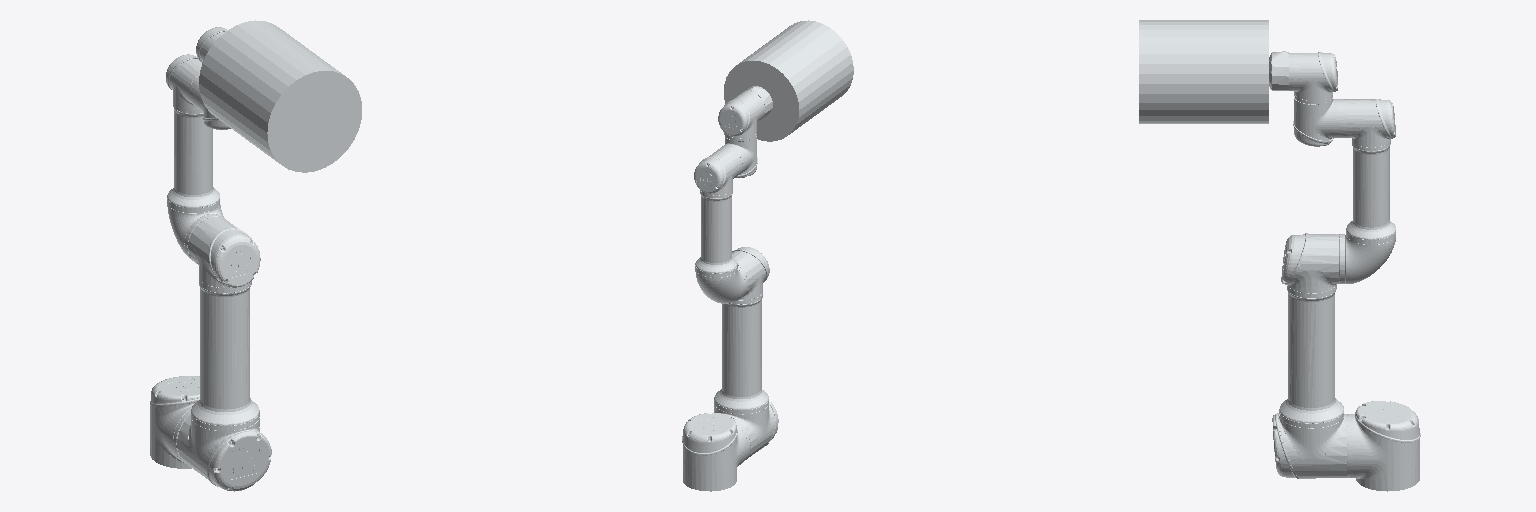
URDF robot description (eSeries_UR16e_15012020_URDF_ONLY):
<?xml version="1.0" encoding="utf-8"?>
<!-- This URDF was automatically created by SolidWorks to URDF Exporter! Originally created by [author] ([email redacted]) 
     Commit Version: 1.5.1-0-g916b5db  Build Version: 1.5.7152.31018
     For more information, please see http://wiki.ros.org/sw_urdf_exporter -->
<robot
  name="eSeries_UR16e_15012020_URDF_ONLY">
  <link
    name="base_link">
    <inertial>
      <origin
        xyz="0 0 0"
        rpy="0 0 0" />
      <mass
        value="3.3528" />
      <inertia
        ixx="0.0088179"
        ixy="-2.2263E-06"
        ixz="7.1489E-06"
        iyy="0.0098684"
        iyz="0.00021615"
        izz="0.01352" />
    </inertial>
    <visual>
      <origin
        xyz="0 0 0"
        rpy="0 0 0" />
      <geometry>
        <mesh
          filename="meshes/base_link.stl" />
      </geometry>
      <material
        name="">
        <color
          rgba="0.89804 0.91765 0.92941 1" />
      </material>
    </visual>
    <collision>
      <origin
        xyz="0 0 0"
        rpy="0 0 0" />
      <geometry>
        <mesh
          filename="meshes/base_link.stl" />
      </geometry>
    </collision>
  </link>
  <link
    name="Shoulder1">
    <inertial>
      <origin
        xyz="0 0 0"
        rpy="0 0 0" />
      <mass
        value="7.369" />
      <inertia
        ixx="0.037903"
        ixy="-3.567E-07"
        ixz="6.5164E-07"
        iyy="0.032113"
        iyz="-0.00061449"
        izz="0.033598" />
    </inertial>
    <visual>
      <origin
        xyz="0 0 0"
        rpy="0 0 0" />
      <geometry>
        <mesh
          filename="meshes/shoulder1.stl" />
      </geometry>
      <material
        name="">
        <color
          rgba="0.89804 0.91765 0.92941 1" />
      </material>
    </visual>
    <collision>
      <origin
        xyz="0 0 0"
        rpy="0 0 0" />
      <geometry>
        <mesh
          filename="meshes/shoulder1.stl" />
      </geometry>
    </collision>
  </link>
  <joint
    name="J1"
    type="revolute">
    <origin
      xyz="0 0 0"
      rpy="0 0 0" />
    <parent
      link="base_link" />
    <child
      link="Shoulder1" />
    <axis
      xyz="0 1 0" />
    <limit
      lower="-6.28"
      upper="6.28"
      effort="0"
      velocity="2.094" />
    <dynamics
      damping="1.5"
      friction="1" />
    <safety_controller
      soft_upper="6"
      soft_lower="-6"
      k_velocity="2.094" />
  </joint>
  <link
    name="Shoulder2">
    <inertial>
      <origin
        xyz="0 0 0"
        rpy="0 0 0" />
      <mass
        value="10.45" />
      <inertia
        ixx="0.77144"
        ixy="-6.1908E-06"
        ixz="2.1756E-07"
        iyy="0.055717"
        iyz="0.0015624"
        izz="0.76424" />
    </inertial>
    <visual>
      <origin
        xyz="0 0 0"
        rpy="0 0 0" />
      <geometry>
        <mesh
          filename="meshes/shoulder2.stl" />
      </geometry>
      <material
        name="">
        <color
          rgba="0.89804 0.91765 0.92941 1" />
      </material>
    </visual>
    <collision>
      <origin
        xyz="0 0 0"
        rpy="0 0 0" />
      <geometry>
        <mesh
          filename="meshes/shoulder2.stl" />
      </geometry>
    </collision>
  </link>
  <joint
    name="J2"
    type="revolute">
    <origin
      xyz="0 0 0"
      rpy="0 0 0" />
    <parent
      link="Shoulder1" />
    <child
      link="Shoulder2" />
    <axis
      xyz="0 0 1" />
    <limit
      lower="-6.28"
      upper="6.28"
      effort="0"
      velocity="2.094" />
    <dynamics
      damping="1.5"
      friction="1" />
    <safety_controller
      soft_upper="6"
      soft_lower="-6"
      k_velocity="2.094" />
  </joint>
  <link
    name="Elbow">
    <inertial>
      <origin
        xyz="0 0 0"
        rpy="0 0 0" />
      <mass
        value="4.321" />
      <inertia
        ixx="0.18067"
        ixy="-1.5315E-05"
        ixz="-4.3945E-06"
        iyy="0.013863"
        iyz="0.0099125"
        izz="0.1784" />
    </inertial>
    <visual>
      <origin
        xyz="0 0 0"
        rpy="0 0 0" />
      <geometry>
        <mesh
          filename="meshes/elbow.stl" />
      </geometry>
      <material
        name="">
        <color
          rgba="0.89804 0.91765 0.92941 1" />
      </material>
    </visual>
    <collision>
      <origin
        xyz="0 0 0"
        rpy="0 0 0" />
      <geometry>
        <mesh
          filename="meshes/elbow.stl" />
      </geometry>
    </collision>
  </link>
  <joint
    name="J3"
    type="revolute">
    <origin
      xyz="0 0 0"
      rpy="0 0 0" />
    <parent
      link="Shoulder2" />
    <child
      link="Elbow" />
    <axis
      xyz="0 0 1" />
    <limit
      lower="-6.28"
      upper="6.28"
      effort="0"
      velocity="3.141" />
    <dynamics
      damping="1.5"
      friction="1" />
    <safety_controller
      soft_upper="6"
      soft_lower="-6"
      k_velocity="3.141" />
  </joint>
  <link
    name="Wrist1">
    <inertial>
      <origin
        xyz="0 0 0"
        rpy="0 0 0" />
      <mass
        value="2.180" />
      <inertia
        ixx="0.0049204"
        ixy="6.4665E-08"
        ixz="1.101E-07"
        iyy="0.0040693"
        iyz="-0.00012544"
        izz="0.0035835" />
    </inertial>
    <visual>
      <origin
        xyz="0 0 0"
        rpy="0 0 0" />
      <geometry>
        <mesh
          filename="meshes/wrist1.stl" />
      </geometry>
      <material
        name="">
        <color
          rgba="0.89804 0.91765 0.92941 1" />
      </material>
    </visual>
    <collision>
      <origin
        xyz="0 0 0"
        rpy="0 0 0" />
      <geometry>
        <mesh
          filename="meshes/wrist1.stl" />
      </geometry>
    </collision>
  </link>
  <joint
    name="J4"
    type="revolute">
    <origin
      xyz="0 0 0"
      rpy="0 0 0" />
    <parent
      link="Elbow" />
    <child
      link="Wrist1" />
    <axis
      xyz="0 0 1" />
    <limit
      lower="-6.28"
      upper="6.28"
      effort="0"
      velocity="3.141" />
    <dynamics
      damping="1"
      friction="1" />
    <safety_controller
      soft_upper="6"
      soft_lower="-6"
      k_velocity="3.141" />
  </joint>
  <link
    name="Wrist2">
    <inertial>
      <origin
        xyz="0 0 0"
        rpy="0 0 0" />
      <mass
        value="2.033" />
      <inertia
        ixx="0.0038851"
        ixy="-6.9243E-08"
        ixz="-3.5564E-08"
        iyy="0.0033105"
        iyz="-0.00010011"
        izz="0.0030368" />
    </inertial>
    <visual>
      <origin
        xyz="0 0 0"
        rpy="0 0 0" />
      <geometry>
        <mesh
          filename="meshes/wrist2.stl" />
      </geometry>
      <material
        name="">
        <color
          rgba="0.89804 0.91765 0.92941 1" />
      </material>
    </visual>
    <collision>
      <origin
        xyz="0 0 0"
        rpy="0 0 0" />
      <geometry>
        <mesh
          filename="meshes/wrist2.stl" />
      </geometry>
    </collision>
  </link>
  <joint
    name="J5"
    type="revolute">
    <origin
      xyz="0 0 0"
      rpy="0 0 0" />
    <parent
      link="Wrist1" />
    <child
      link="Wrist2" />
    <axis
      xyz="0 1 0" />
    <limit
      lower="-6.28"
      upper="6.28"
      effort="0"
      velocity="3.141" />
    <dynamics
      damping="1.5"
      friction="1" />
    <safety_controller
      soft_upper="6"
      soft_lower="-6"
      k_velocity="3.141" />
  </joint>
  <link
    name="Wrist3">
    <inertial>
      <origin
        xyz="0 0 0"
        rpy="0 0 0" />
      <mass
        value="0.907" />
      <inertia
        ixx="0.00071366"
        ixy="-4.1E-11"
        ixz="1.3847E-11"
        iyy="0.00071623"
        iyz="1.3964E-07"
        izz="0.0009382" />
    </inertial>
    <visual>
      <origin
        xyz="0 0 0"
        rpy="0 0 0" />
      <geometry>
        <mesh
          filename="meshes/wrist3.stl" />
      </geometry>
      <material
        name="">
        <color
          rgba="0.89804 0.91765 0.92941 1" />
      </material>
    </visual>
    <collision>
      <origin
        xyz="0 0 0"
        rpy="0 0 0" />
      <geometry>
        <mesh
          filename="meshes/wrist3.stl" />
      </geometry>
    </collision>
  </link>
  <joint
    name="J6"
    type="revolute">
    <origin
      xyz="0 0 0"
      rpy="0 0 0" />
    <parent
      link="Wrist2" />
    <child
      link="Wrist3" />
    <axis
      xyz="0 0 1" />
    <limit
      lower="-6.28"
      upper="6.28"
      effort="0"
      velocity="3.141" />
    <dynamics
      damping="1.5"
      friction="1" />
    <safety_controller
      soft_upper="6"
      soft_lower="-6"
      k_velocity="3.141" />
  </joint>

  <link
    name="EndEffector">
    <inertial>
      <origin
        xyz="0 0 0"
        rpy="0 0 0" />
      <mass
        value="0.907" />
      <inertia
        ixx="0.00071366"
        ixy="-4.1E-11"
        ixz="1.3847E-11"
        iyy="0.00071623"
        iyz="1.3964E-07"
        izz="0.0009382" />
    </inertial>
    <visual>
      <origin
        xyz="0 0 0"
        rpy="0 0 0" />
      <geometry>
        <mesh
          filename="meshes/end_effector.stl" />
      </geometry>
      <material
        name="">
        <color
          rgba="0.89804 0.91765 0.92941 1" />
      </material>
    </visual>
    <collision>
      <origin
        xyz="0 0 0"
        rpy="0 0 0" />
      <geometry>
        <mesh
          filename="meshes/end_effector.stl" />
      </geometry>
    </collision>
  </link>
  <joint
    name="JEndEffector"
    type="fixed">
    <origin
      xyz="0 0 0"
      rpy="0 0 0" />
    <parent
      link="Wrist3" />
    <child
      link="EndEffector" />
    <axis
      xyz="0 0 1" />
    <dynamics
      damping="1.5"
      friction="1" />
    <safety_controller
      soft_upper="6"
      soft_lower="-6"
      k_velocity="3.141" />
  </joint>
</robot>

--- Render facts (derived) ---
3 views of the same robot in one strip: view 1: azimuth 30°, elevation 25°; view 2: azimuth 150°, elevation 25°; view 3: azimuth 270°, elevation 25° (orthographic).
Robot: eSeries_UR16e_15012020_URDF_ONLY — 8 links, 7 joints (6 revolute, 1 fixed); root link base_link; default pose: all joints at 0.
Visible links, largest first — view 1: EndEffector, Shoulder2, Elbow, Shoulder1, Wrist1; view 2: EndEffector, Shoulder2, Elbow, Shoulder1, Wrist2, Wrist1; view 3: Shoulder2, EndEffector, Elbow, Shoulder1, Wrist2, Wrist1, Wrist3.
Link boxes in pixels (left/top/right/bottom): EndEffector: left=199, top=20, right=361, bottom=172; Shoulder2: left=177, top=217, right=271, bottom=491; Elbow: left=166, top=54, right=224, bottom=260; Shoulder1: left=150, top=376, right=199, bottom=468; Wrist1: left=189, top=74, right=230, bottom=129; EndEffector: left=724, top=20, right=853, bottom=141; Shoulder2: left=714, top=247, right=778, bottom=459; Elbow: left=694, top=148, right=747, bottom=303; Shoulder1: left=682, top=413, right=750, bottom=491; Wrist2: left=718, top=91, right=764, bottom=141; Wrist1: left=718, top=136, right=757, bottom=177; Shoulder2: left=1272, top=233, right=1346, bottom=478; EndEffector: left=1139, top=20, right=1268, bottom=123; Elbow: left=1339, top=99, right=1395, bottom=283; Shoulder1: left=1347, top=401, right=1420, bottom=491; Wrist2: left=1289, top=52, right=1337, bottom=104; Wrist1: left=1293, top=96, right=1346, bottom=146; Wrist3: left=1269, top=51, right=1288, bottom=90.
Bounding box of the posed robot: 0.24 × 0.6533 × 1.16 m (x, y, z).
7 mesh visuals loaded from 8 distinct referenced files (7 binary STL); not drawn: 1 (reference not matched to a file when rendering).